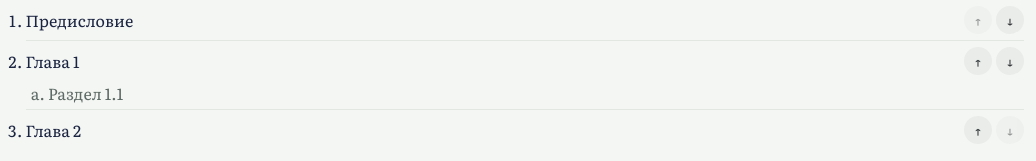
Test: оглавление › перестановка отдаёт новый порядок прежних позиций
Click the button named "Переместить «Глава 1» выше" at (978, 61), box [964, 47, 992, 75]
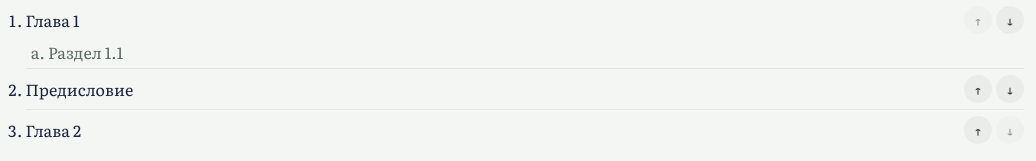
Expected: the button named "Переместить «Глава 1» выше" is disabled, [964, 6, 992, 34]
Result: the elements with class "title" read "Глава 1", "Предисловие", "Глава 2", in this order at [26, 8, 80, 32]; [26, 77, 133, 101]; [26, 118, 81, 142]
